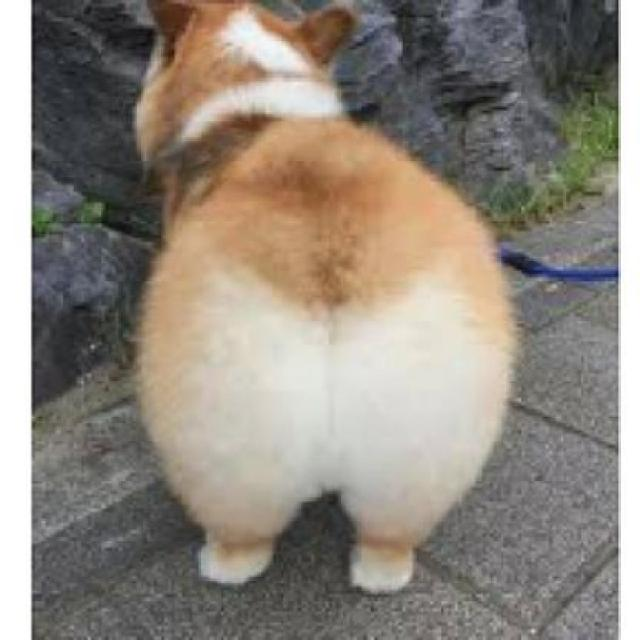Dog: (126, 0, 525, 600)
